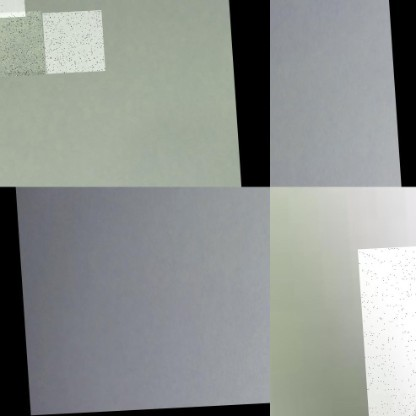ironball: (355, 241, 415, 415), (40, 12, 102, 75), (0, 12, 43, 78)
